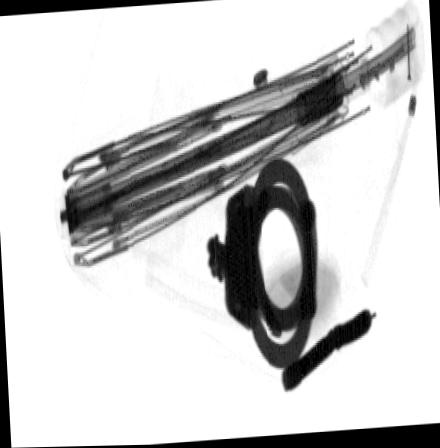Gun: (281, 308, 377, 395)
HandCuffs: (208, 151, 320, 379)
